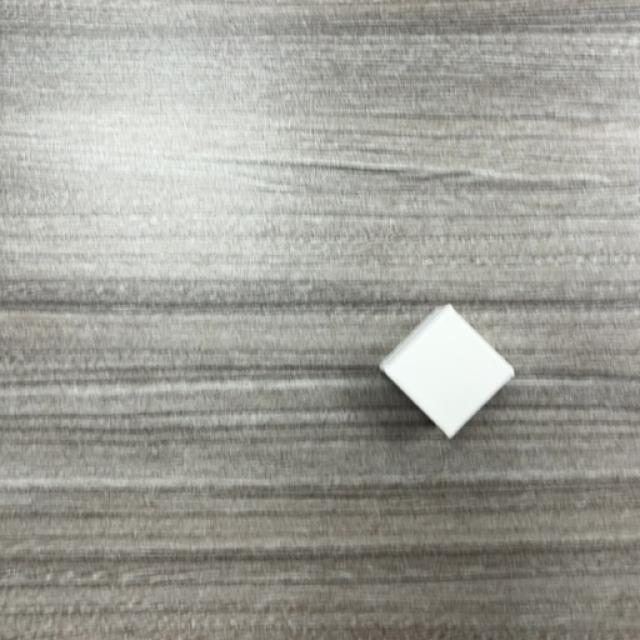Blanco: (378, 305, 515, 440)
